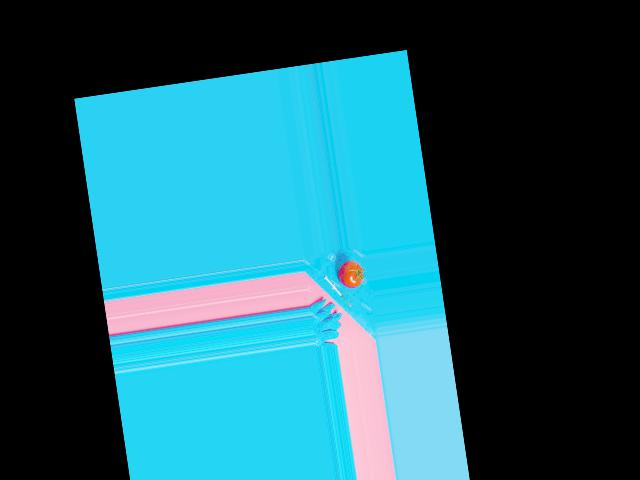tomato: (336, 260, 364, 290)
